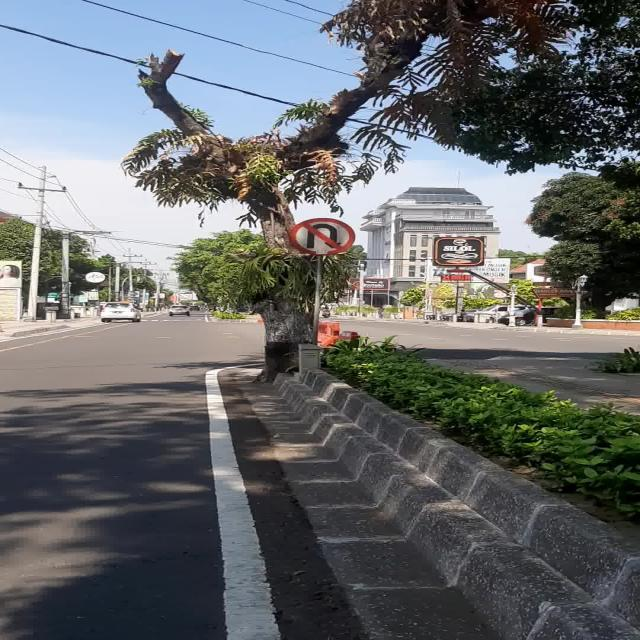Dilarang Putar Balik: (289, 218, 356, 256)
